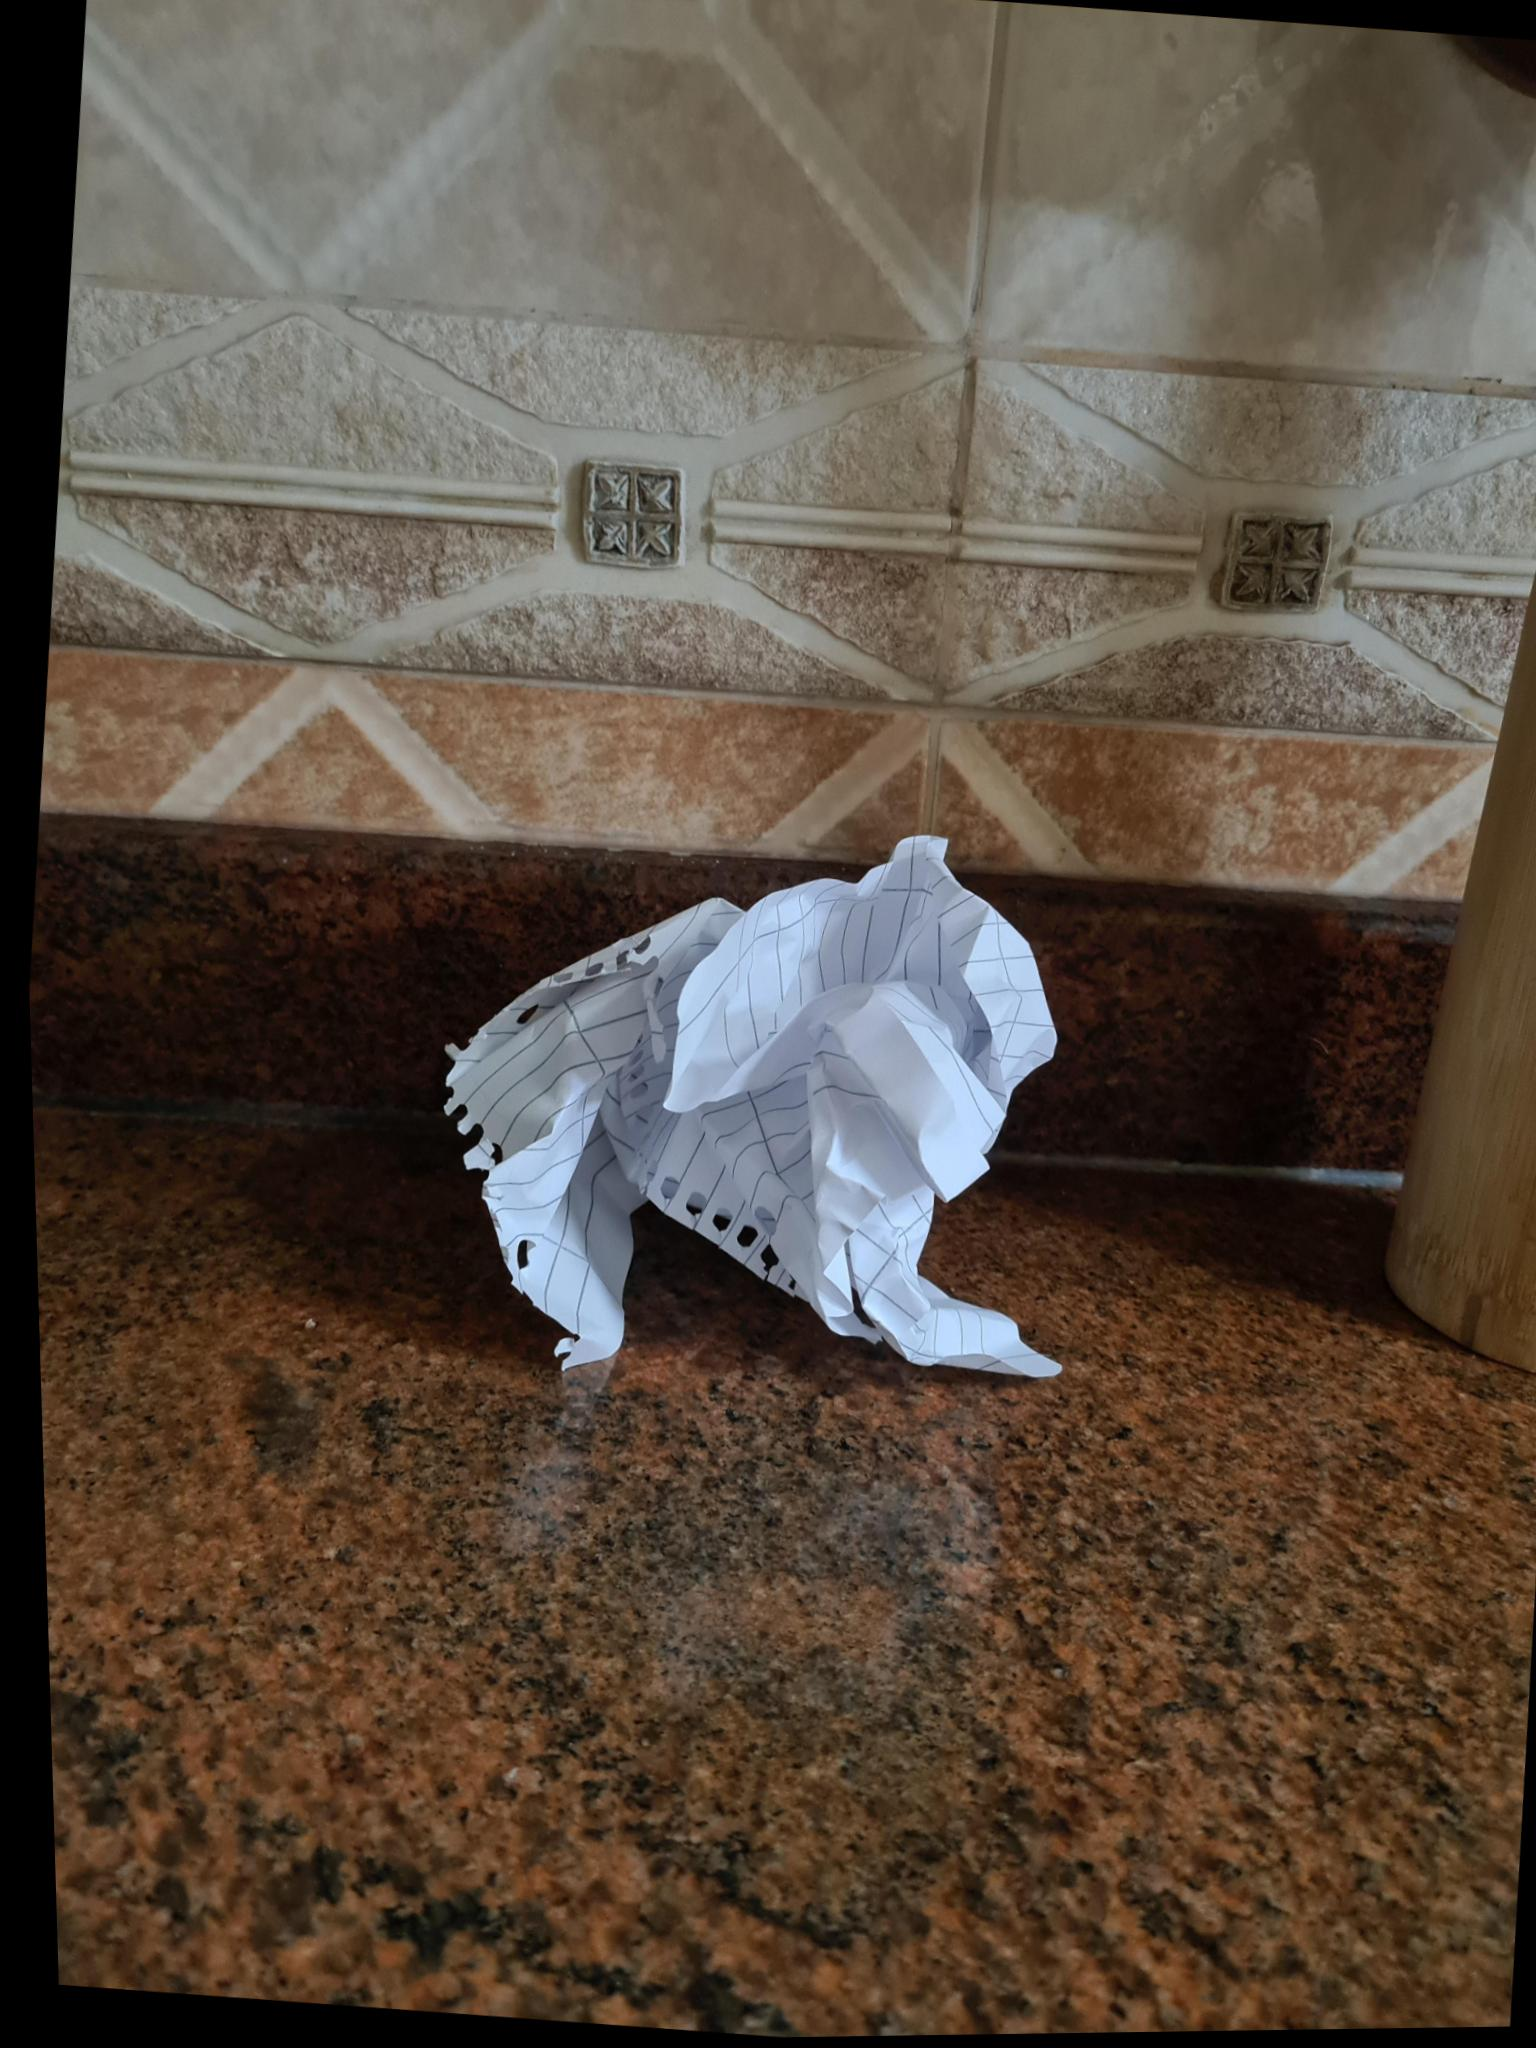paper: (449, 835, 1057, 1376)
